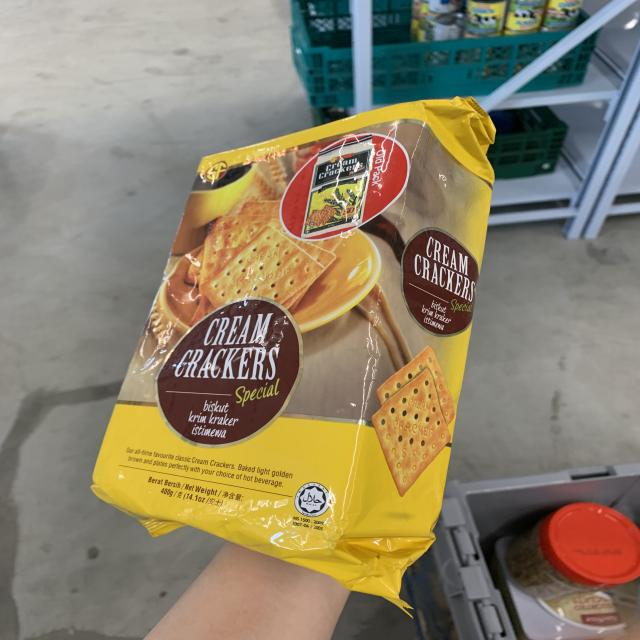object_name: (102, 119, 436, 557)
